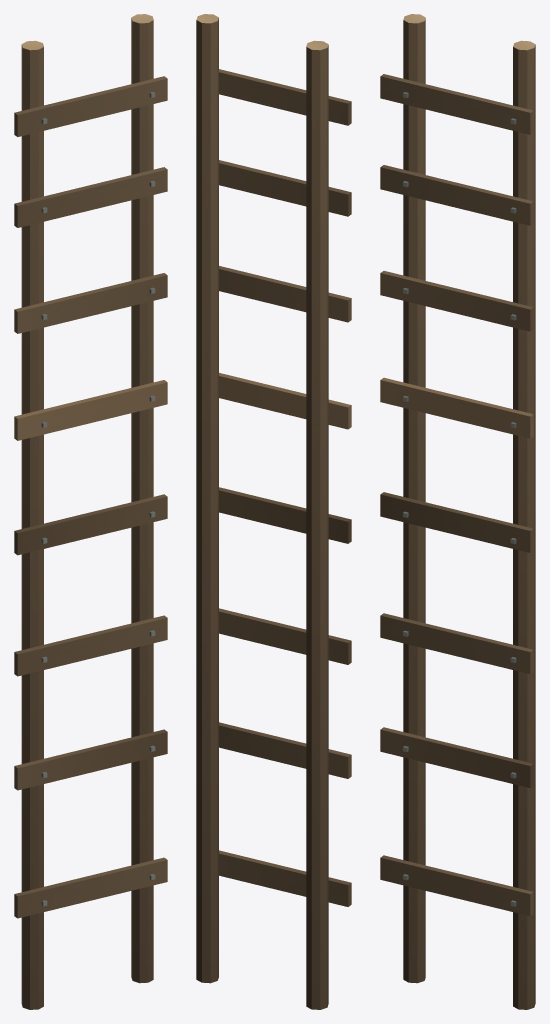
File: ZLP_Build_D_18.FBX
The picture shows the model from 3 angles, left to right: view 1: azimuth 30°, elevation 25°; view 2: azimuth 150°, elevation 25°; view 3: azimuth 330°, elevation 25°; orthographic projection.
Parts seen in each view (by area): view 1: ZLP_Build_D_18; view 2: ZLP_Build_D_18; view 3: ZLP_Build_D_18.
Boxes of the visible parts, x1,y1,x2,y2 form: ZLP_Build_D_18: (14,14,167,1009); ZLP_Build_D_18: (196,14,351,1009); ZLP_Build_D_18: (380,14,535,1009).
Size of the model in its own units: 70.66 by 432 by 13.8.
